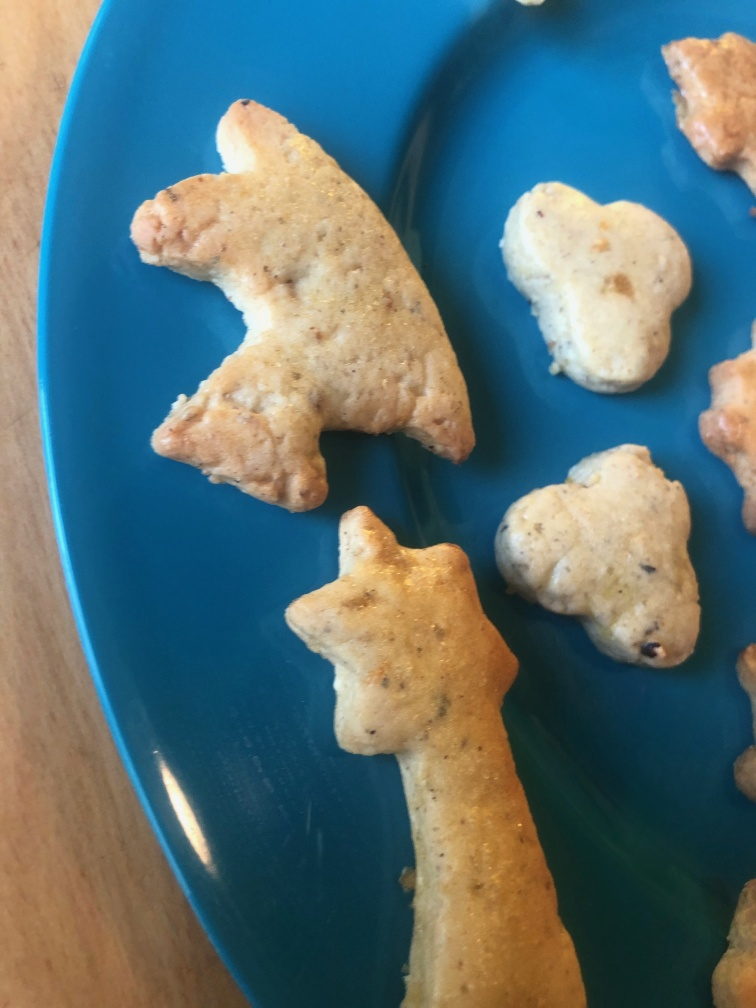flake: (493, 438, 704, 678), (498, 179, 694, 394)
lamb: (127, 98, 482, 511)
shooting star: (282, 501, 590, 1008)
